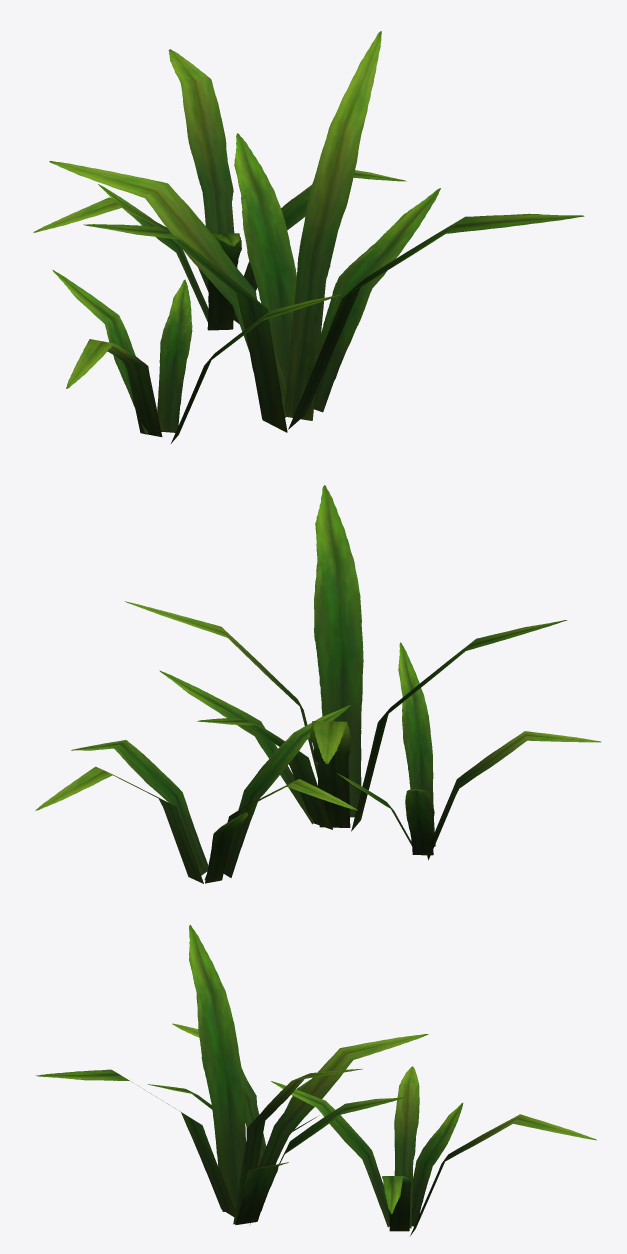
Rendered from wm_灌木洛阳城花草10.fbx.
3 renders of one model, top to bottom at view 1: azimuth 30°, elevation 25°; view 2: azimuth 150°, elevation 25°; view 3: azimuth 270°, elevation 25°, orthographic. The views are drawn at different scales.
Parts seen in each view (by area): view 1: wm_灌木洛阳城花草10; view 2: wm_灌木洛阳城花草10; view 3: wm_灌木洛阳城花草10.
Part boxes in pixels (x1,y1,x2,y2): wm_灌木洛阳城花草10: [33, 31, 584, 443]; wm_灌木洛阳城花草10: [35, 485, 600, 883]; wm_灌木洛阳城花草10: [35, 924, 596, 1235].
Bounding box in the file's own units: 134 × 73.9 × 185.
